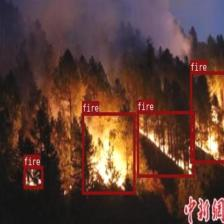fire: (82, 111, 134, 194), (137, 110, 194, 177), (189, 70, 224, 162), (23, 165, 43, 188)
